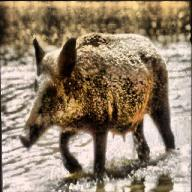boar: (20, 31, 174, 180)
